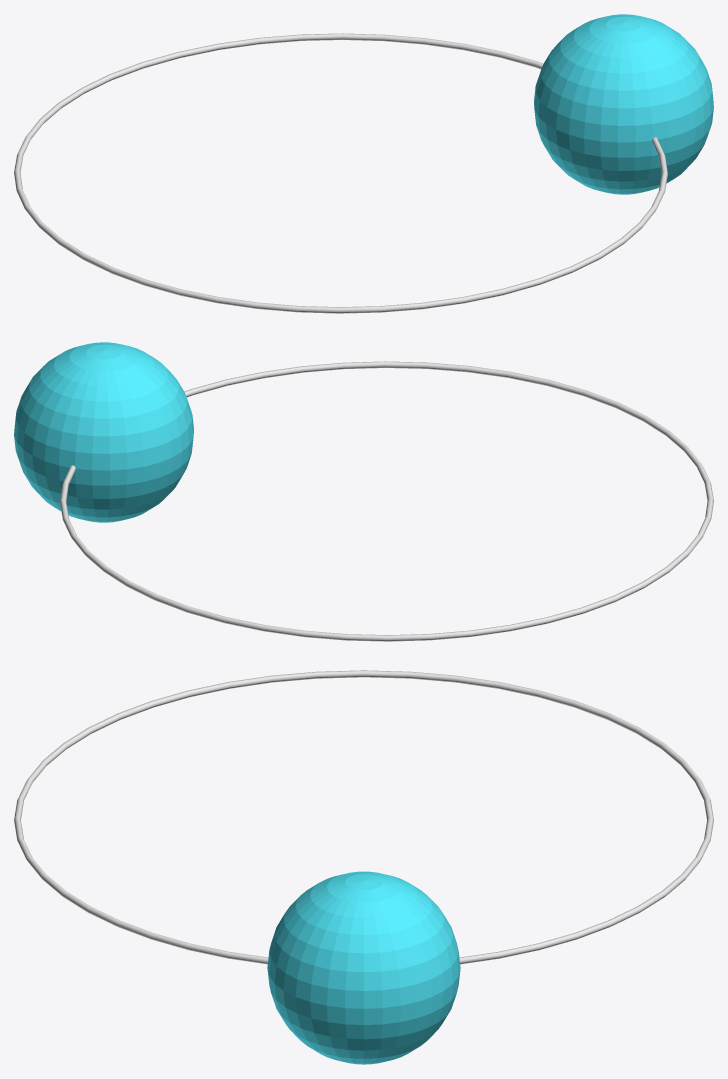
The model's file is planetsone.glb.
3 views of the same model, one above another, from view 1: azimuth 30°, elevation 25°; view 2: azimuth 150°, elevation 25°; view 3: azimuth 270°, elevation 25° (orthographic). The views are drawn at different scales.
Visible parts, largest first — view 1: Sphere.003, orbet; view 2: Sphere.003, orbet; view 3: Sphere.003, orbet.
Boxes of the visible parts, x1,y1,x2,y2 form: Sphere.003: (534, 14, 713, 194); orbet: (14, 33, 667, 313); Sphere.003: (14, 342, 193, 522); orbet: (60, 361, 713, 641); Sphere.003: (267, 871, 460, 1064); orbet: (14, 670, 713, 964).
Size of the model in its own units: 2.05 by 0.4974 by 1.8.
